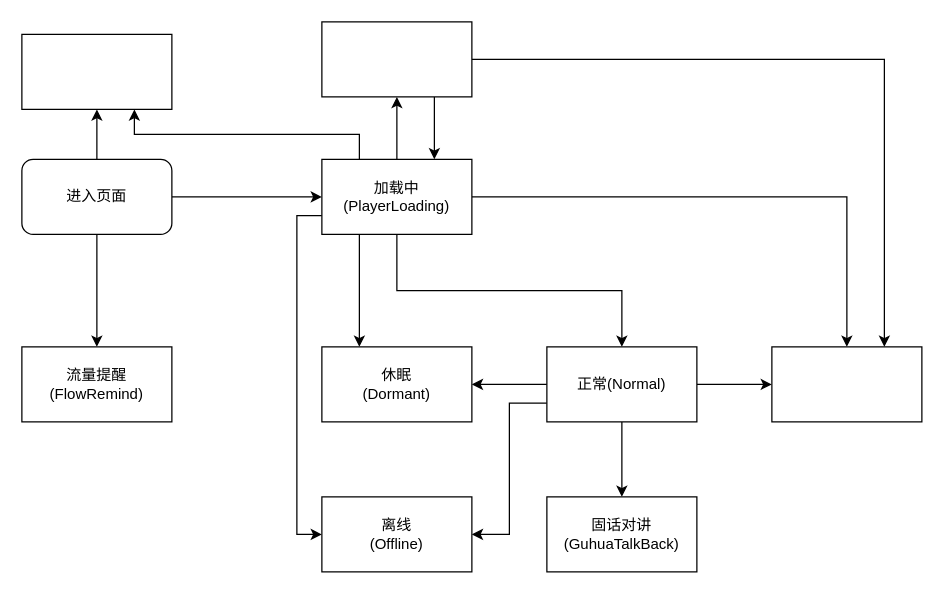
Image size: 944x594. Some labels were removed from this diagram. Here are the shapes that lost their labels. From the top down, the centre of each, then its label:
[96,71]: 特殊状态、锁网等 （SpecialStatus）
[396,59]: 加载20s后超时 (L oadingTimeOut)
[846,384]: 网络错误 (NetworkError)
